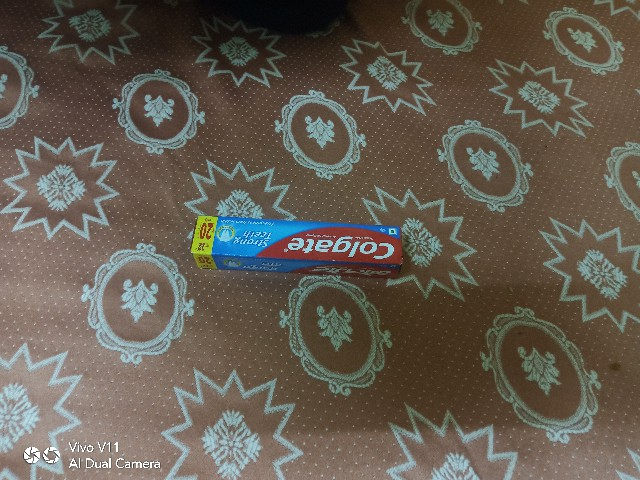colgatetoothpaste small: (183, 211, 454, 283)
